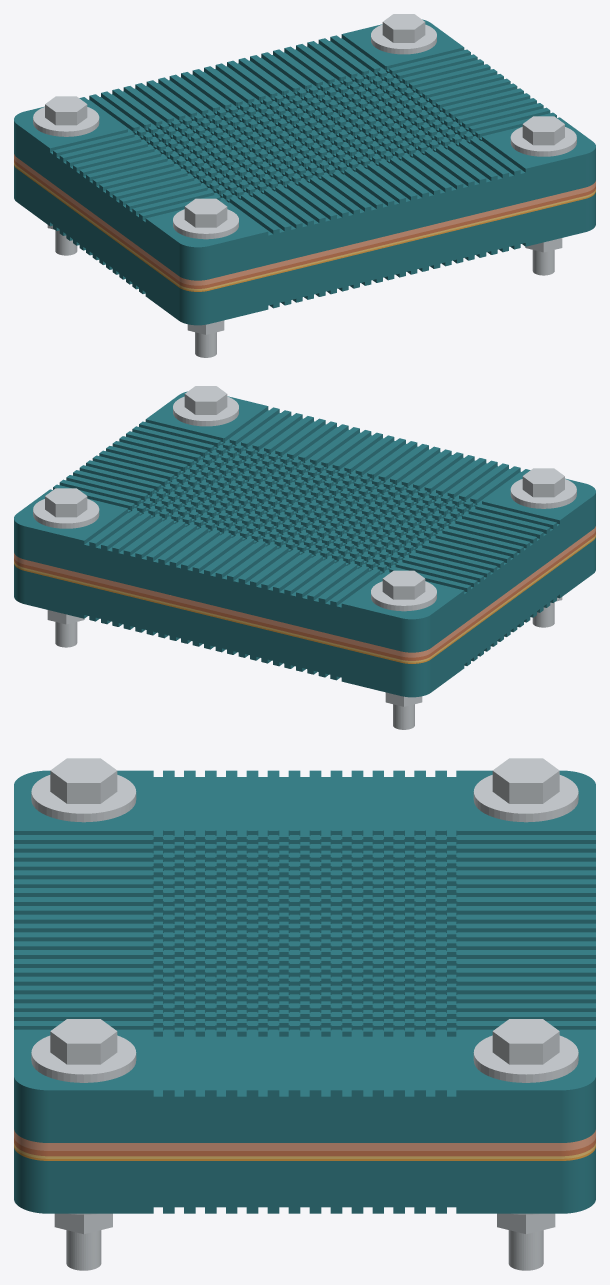
File: assembly.glb
3 views of the same model, one above another, from view 1: azimuth 30°, elevation 25°; view 2: azimuth 150°, elevation 25°; view 3: azimuth 270°, elevation 25° (orthographic). The views are drawn at different scales.
Parts seen in each view (by area): view 1: LAPS Marle | assembly | upperPetg, LAPS Marle | assembly | lowerPetg, LAPS Marle | assembly | shim15, LAPS Marle | assembly | shim10, LAPS Marle | assembly | shim05, LAPS Marle | assembly | base, LAPS Marle | assembly | head01, LAPS Marle | assembly | head02, LAPS Marle | assembly | head03, LAPS Marle | assembly | head04, LAPS Marle | assembly | washerUpper01, LAPS Marle | assembly | washerUpper03 (+4 smaller); view 2: LAPS Marle | assembly | upperPetg, LAPS Marle | assembly | lowerPetg, LAPS Marle | assembly | shim15, LAPS Marle | assembly | shim10, LAPS Marle | assembly | shim05, LAPS Marle | assembly | base, LAPS Marle | assembly | head03, LAPS Marle | assembly | head04, LAPS Marle | assembly | head01, LAPS Marle | assembly | head02, LAPS Marle | assembly | washerUpper03, LAPS Marle | assembly | washerUpper01 (+4 smaller); view 3: LAPS Marle | assembly | upperPetg, LAPS Marle | assembly | lowerPetg, LAPS Marle | assembly | shim15, LAPS Marle | assembly | shim10, LAPS Marle | assembly | head01, LAPS Marle | assembly | head02, LAPS Marle | assembly | head03, LAPS Marle | assembly | head04, LAPS Marle | assembly | washerUpper02, LAPS Marle | assembly | washerUpper04, LAPS Marle | assembly | washerUpper01, LAPS Marle | assembly | washerUpper03 (+6 smaller).
Part boxes in pixels (x1,y1,x2,y2): LAPS Marle | assembly | upperPetg: (14, 19, 595, 280); LAPS Marle | assembly | lowerPetg: (14, 165, 595, 325); LAPS Marle | assembly | shim15: (14, 154, 595, 285); LAPS Marle | assembly | shim10: (14, 159, 595, 288); LAPS Marle | assembly | shim05: (14, 162, 595, 290); LAPS Marle | assembly | base: (14, 164, 595, 291); LAPS Marle | assembly | head01: (184, 198, 227, 227); LAPS Marle | assembly | head02: (522, 116, 564, 145); LAPS Marle | assembly | head03: (45, 96, 87, 125); LAPS Marle | assembly | head04: (382, 14, 425, 42); LAPS Marle | assembly | washerUpper01: (173, 209, 238, 239); LAPS Marle | assembly | washerUpper03: (33, 107, 99, 136); LAPS Marle | assembly | upperPetg: (14, 391, 595, 652); LAPS Marle | assembly | lowerPetg: (14, 537, 595, 697); LAPS Marle | assembly | shim15: (14, 526, 595, 657); LAPS Marle | assembly | shim10: (14, 531, 595, 660); LAPS Marle | assembly | shim05: (14, 534, 595, 662); LAPS Marle | assembly | base: (14, 536, 595, 663); LAPS Marle | assembly | head03: (382, 570, 425, 599); LAPS Marle | assembly | head04: (45, 488, 87, 517); LAPS Marle | assembly | head01: (522, 468, 564, 497); LAPS Marle | assembly | head02: (184, 386, 227, 414); LAPS Marle | assembly | washerUpper03: (371, 581, 436, 611); LAPS Marle | assembly | washerUpper01: (510, 479, 576, 508); LAPS Marle | assembly | upperPetg: (14, 770, 595, 1142); LAPS Marle | assembly | lowerPetg: (14, 1148, 595, 1213); LAPS Marle | assembly | shim15: (14, 1130, 595, 1150); LAPS Marle | assembly | shim10: (14, 1138, 595, 1156); LAPS Marle | assembly | head01: (50, 758, 117, 803); LAPS Marle | assembly | head02: (50, 1019, 117, 1064); LAPS Marle | assembly | head03: (492, 758, 559, 803); LAPS Marle | assembly | head04: (492, 1019, 559, 1064); LAPS Marle | assembly | washerUpper02: (31, 1035, 136, 1082); LAPS Marle | assembly | washerUpper04: (473, 1035, 578, 1082); LAPS Marle | assembly | washerUpper01: (31, 775, 136, 822); LAPS Marle | assembly | washerUpper03: (473, 775, 578, 822).
Size of the model in its own units: 0.13 by 0.044 by 0.1.
